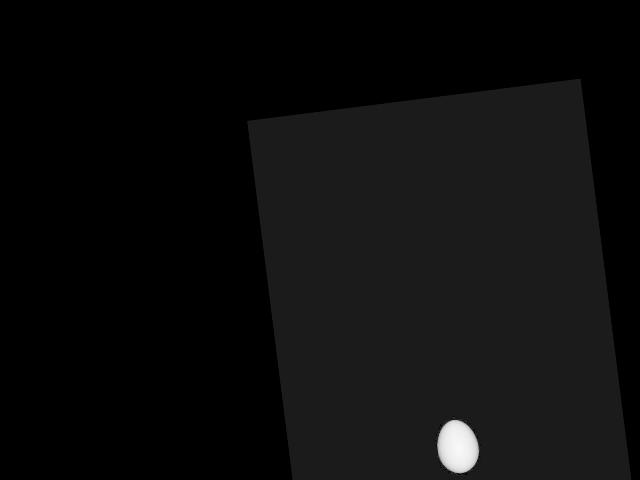egg: (433, 418, 481, 475)
